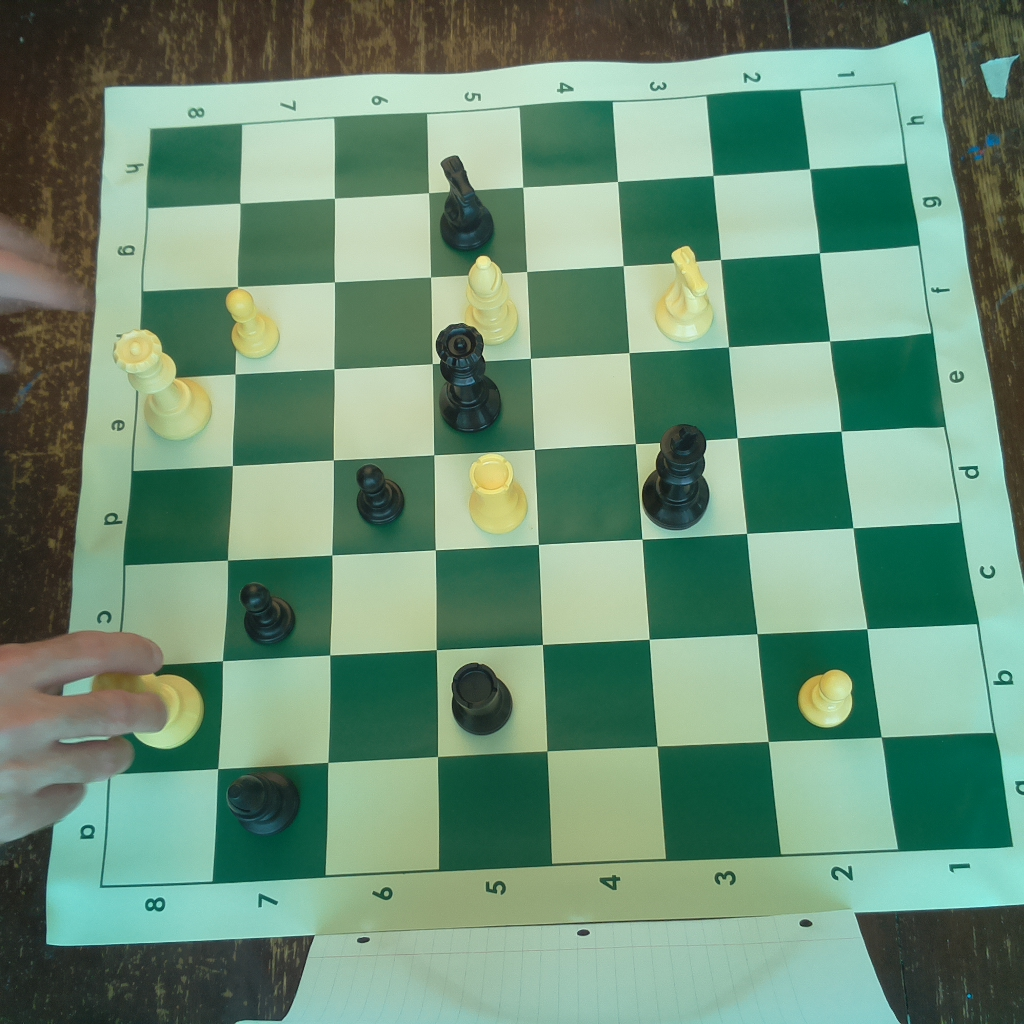black_bishop: (225, 765, 306, 840)
black_king: (640, 418, 715, 530)
black_knight: (424, 149, 501, 253)
black_pawn: (233, 570, 302, 645), (350, 456, 410, 528)
black_queen: (433, 319, 505, 438)
black_rook: (440, 654, 518, 739)
file_a: (99, 732, 1014, 891)
file_b: (107, 622, 996, 777)
file_c: (116, 522, 979, 669)
file_d: (124, 428, 960, 569)
file_e: (131, 332, 946, 469)
file_f: (137, 245, 933, 383)
file_g: (141, 165, 918, 291)
file_h: (146, 86, 906, 209)
outline: (98, 80, 1012, 888)
rank_1: (799, 82, 1011, 854)
rank_2: (708, 88, 898, 854)
rank_3: (614, 95, 783, 861)
rank_4: (519, 99, 667, 864)
rank_5: (428, 106, 555, 871)
rank_6: (324, 113, 441, 874)
rank_7: (211, 118, 336, 884)
rank_8: (99, 122, 247, 890)
white_bishop: (458, 254, 524, 345)
white_king: (89, 656, 211, 747)
white_knight: (654, 244, 720, 341)
white_pawn: (219, 284, 284, 361), (793, 664, 857, 730)
white_queen: (108, 326, 216, 443)
white_rook: (462, 449, 531, 534)
